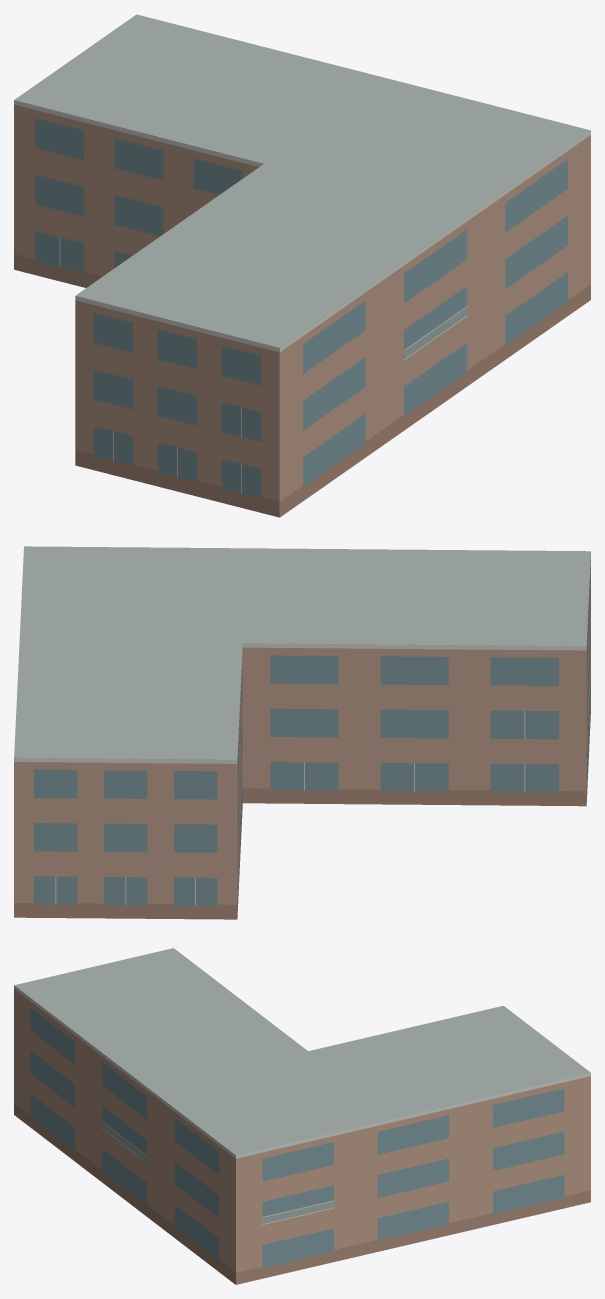
File: residential-a821f105-04a8-4fc9-9098-290b8f832dfb.glb
3 renders of one model, top to bottom at view 1: azimuth 30°, elevation 25°; view 2: azimuth 150°, elevation 25°; view 3: azimuth 270°, elevation 25°, orthographic. The views are drawn at different scales.
Visible parts, largest first — view 1: residential-a821f105-04a8-4fc9-9098-290b8f832dfb.tmp; view 2: residential-a821f105-04a8-4fc9-9098-290b8f832dfb.tmp; view 3: residential-a821f105-04a8-4fc9-9098-290b8f832dfb.tmp.
Part boxes in pixels (x1,y1,x2,y2): residential-a821f105-04a8-4fc9-9098-290b8f832dfb.tmp: (14,14,590,517); residential-a821f105-04a8-4fc9-9098-290b8f832dfb.tmp: (14,546,590,919); residential-a821f105-04a8-4fc9-9098-290b8f832dfb.tmp: (14,948,590,1284).
Bounding box in the file's own units: 31.4 × 9.15 × 36.92.
